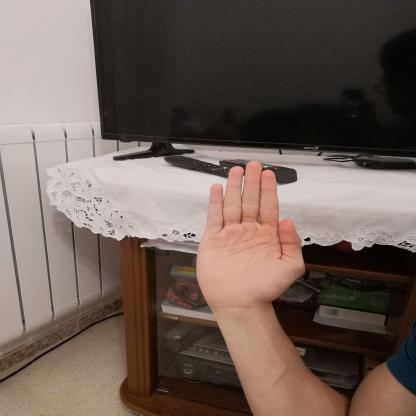SEEN: (186, 154, 314, 316)
